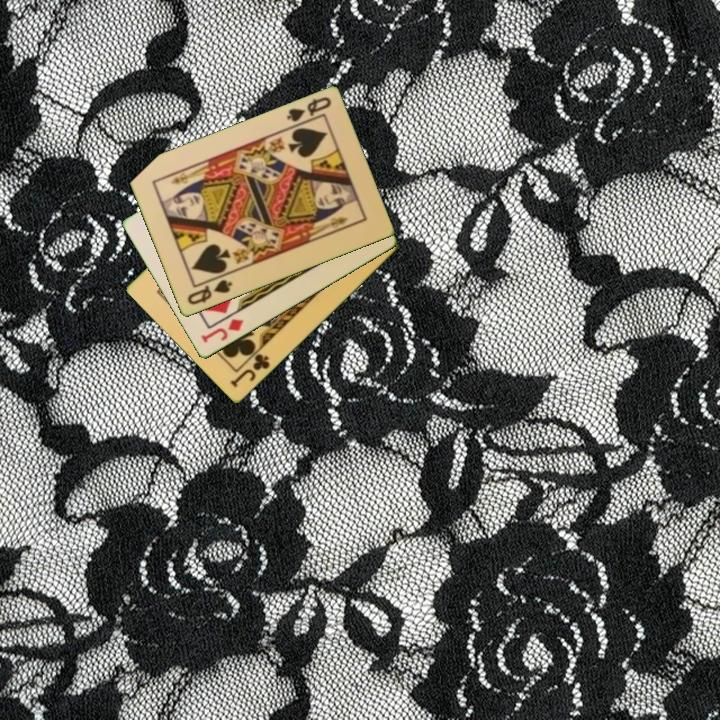Jc: (226, 350, 273, 391)
Jd: (197, 315, 247, 346)
Qs: (283, 94, 334, 131), (184, 276, 235, 308)
